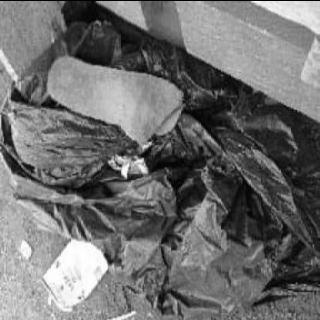objects: (15, 44, 297, 287)
